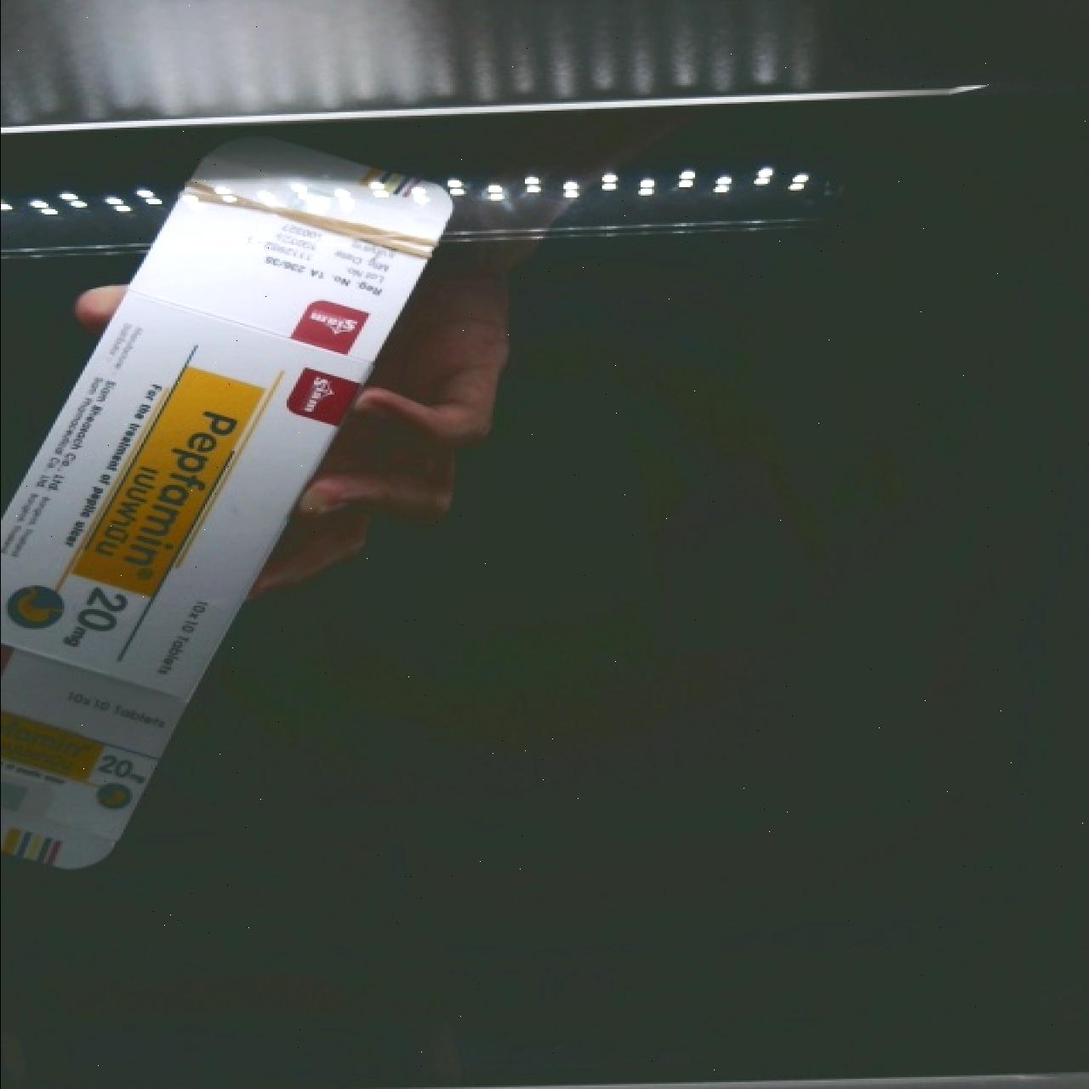medicine_label_obb: (71, 358, 261, 614)
